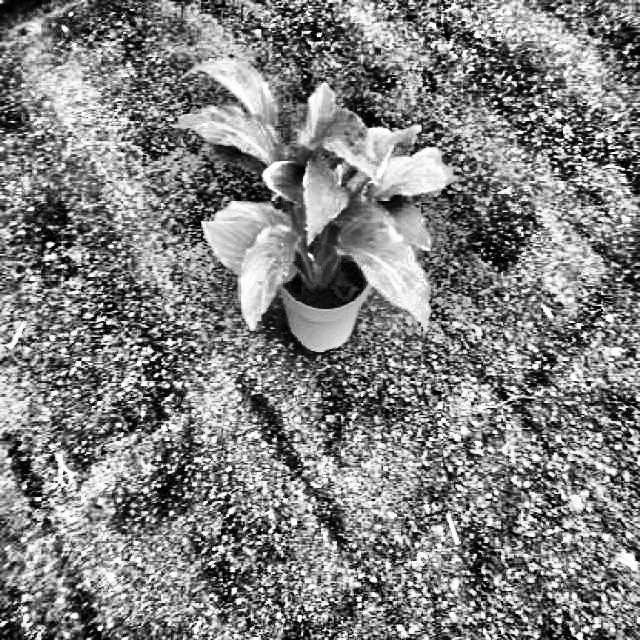plants: (175, 57, 456, 331)
